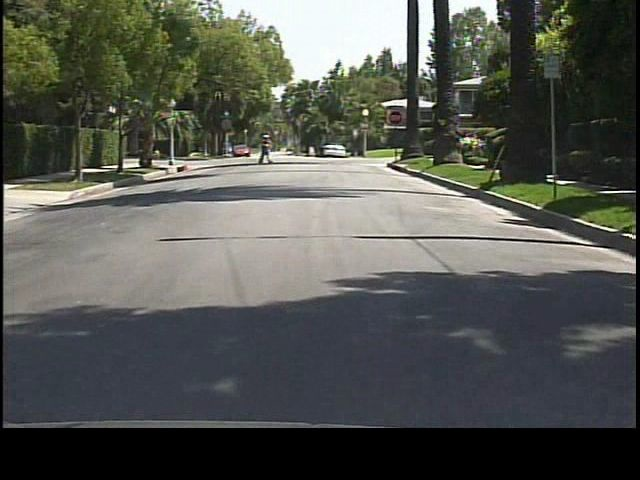person: (258, 134, 274, 166)
